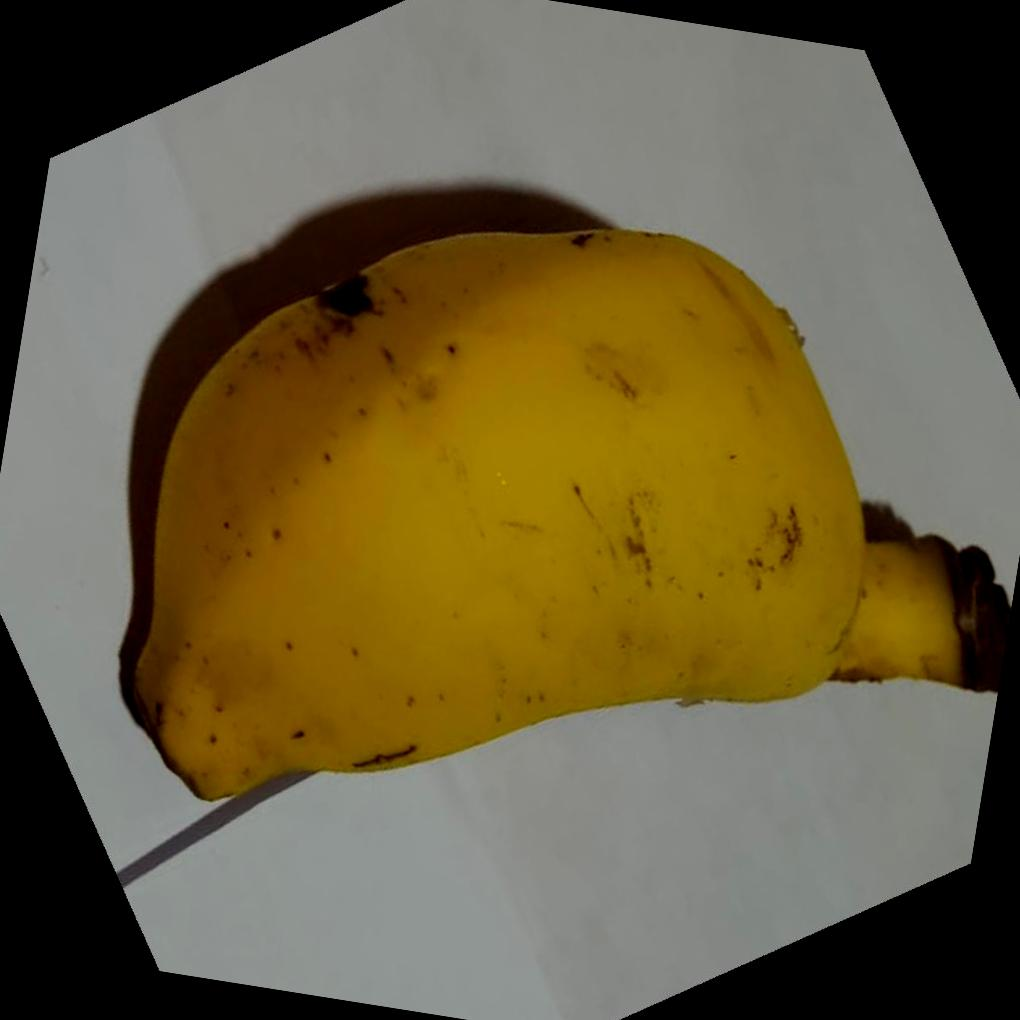Banana Ripe: (92, 140, 1020, 930)
